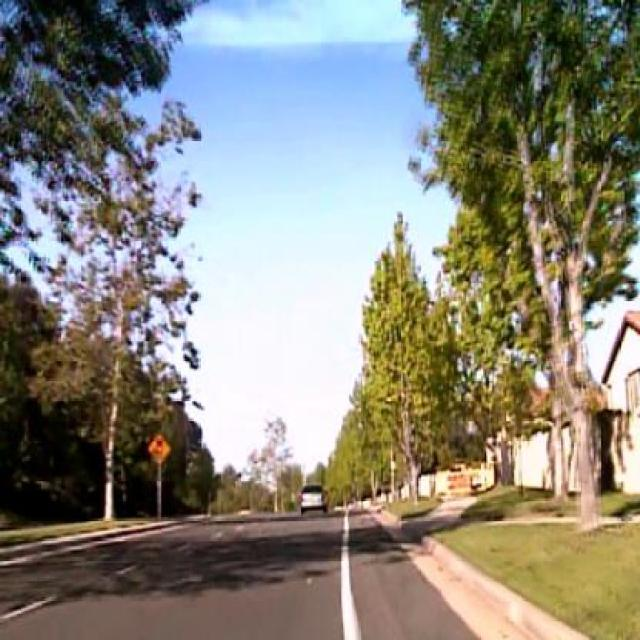signalAhead: (146, 429, 172, 464)
